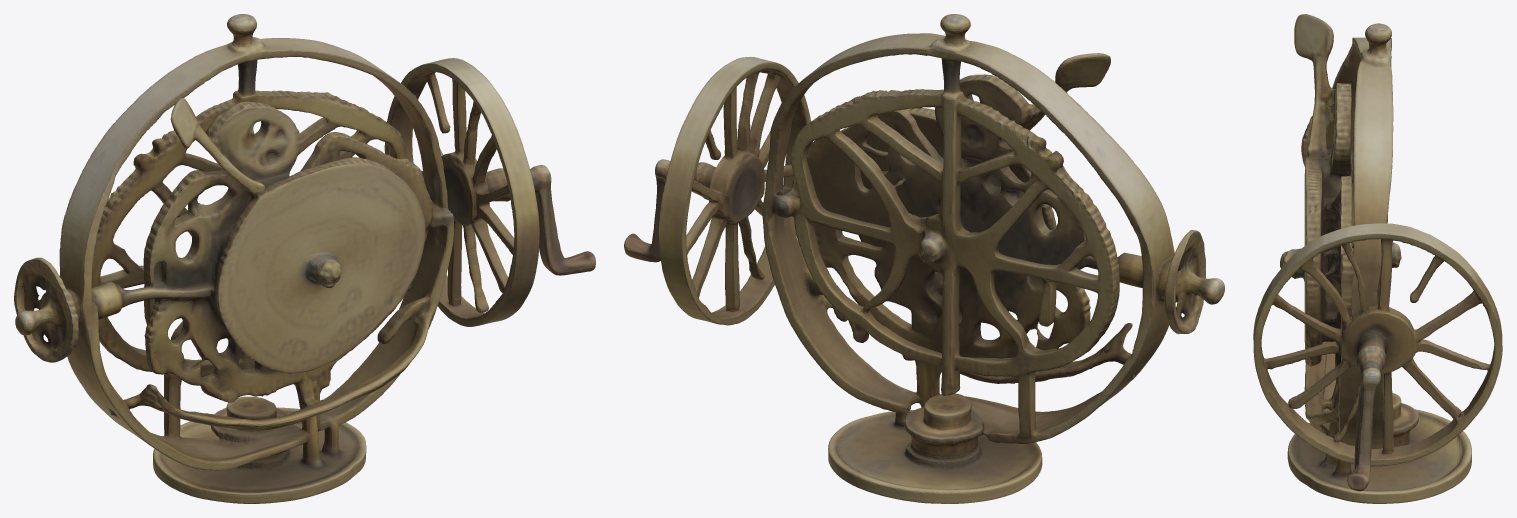
The model's file is model.meshopt.glb.
3 views of the same model, side by side, from view 1: azimuth 30°, elevation 25°; view 2: azimuth 150°, elevation 25°; view 3: azimuth 270°, elevation 25° (orthographic). The views are drawn at different scales.
Visible parts, largest first — view 1: world; view 2: world; view 3: world.
Part boxes in pixels (<box>): world: <box>14,14,595,503</box>; world: <box>624,14,1224,503</box>; world: <box>1253,14,1502,503</box>.
Bounding box in the file's own units: 1 × 0.737 × 0.3913.
